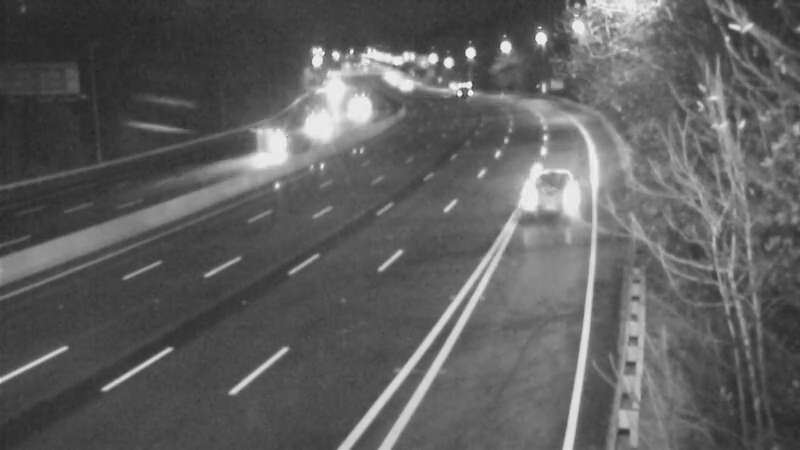vehicle: (517, 147, 597, 227), (437, 64, 487, 114), (379, 56, 429, 106), (251, 124, 301, 174), (292, 102, 342, 152), (333, 87, 383, 137)
